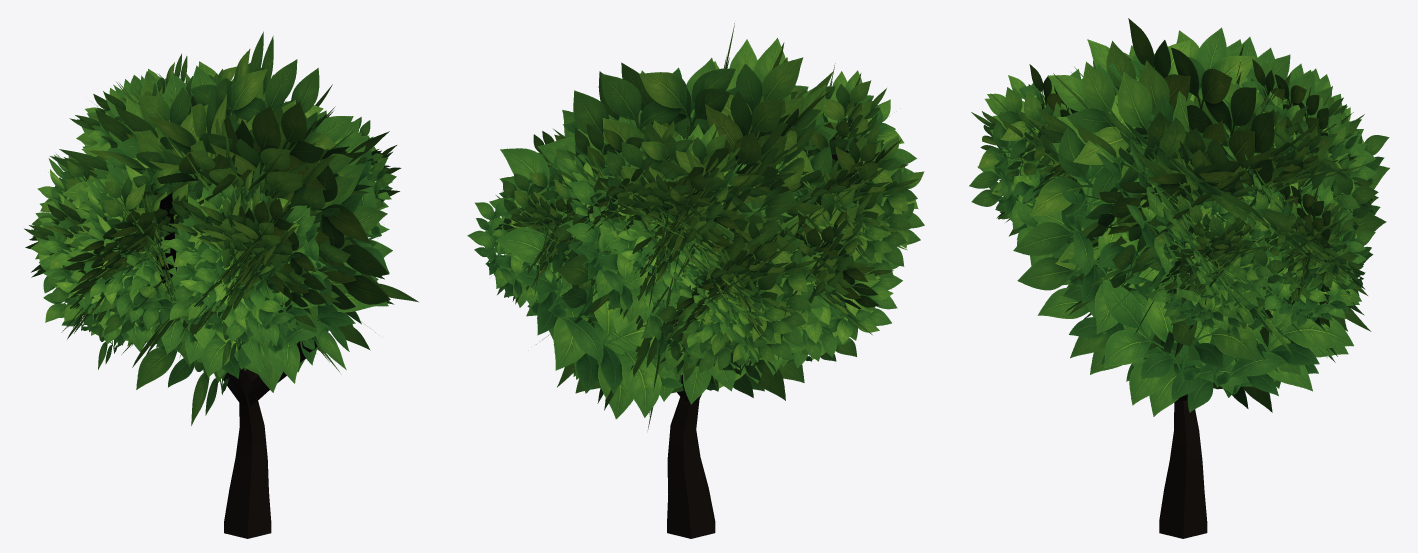
File: Tree_Opti3.fbx
3 views of the same model, side by side, from view 1: azimuth 30°, elevation 25°; view 2: azimuth 150°, elevation 25°; view 3: azimuth 270°, elevation 25° (orthographic). The views are drawn at different scales.
Visible parts, largest first — view 1: tree.004; view 2: tree.004; view 3: tree.004.
Part boxes in pixels (left/top/right/bottom): tree.004: left=24, top=31, right=418, bottom=538; tree.004: left=467, top=23, right=924, bottom=538; tree.004: left=969, top=18, right=1389, bottom=538.
Bounding box in the file's own units: 18222 × 21578 × 18215.
3 materials, 1 textured.
